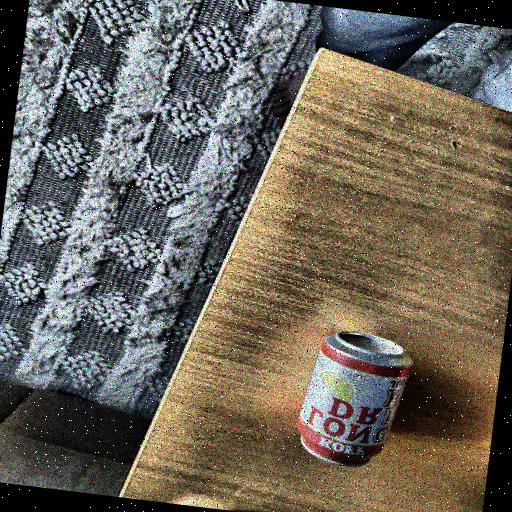koff: (259, 306, 424, 485)
